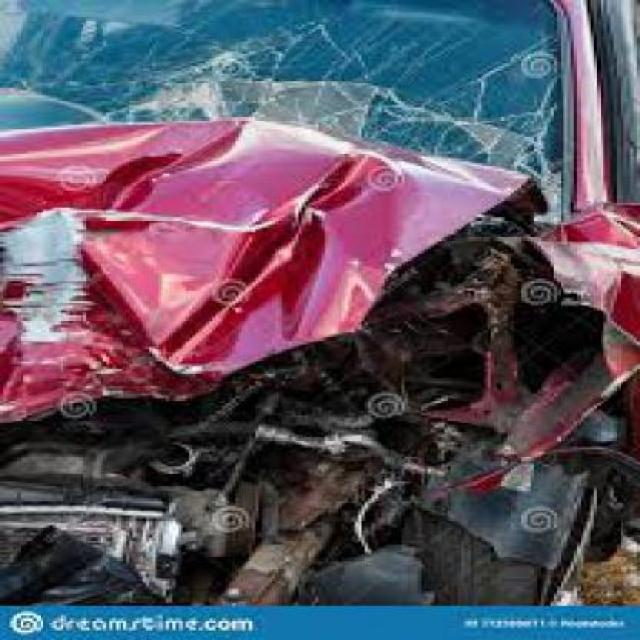damaged-hood: (0, 118, 506, 437)
